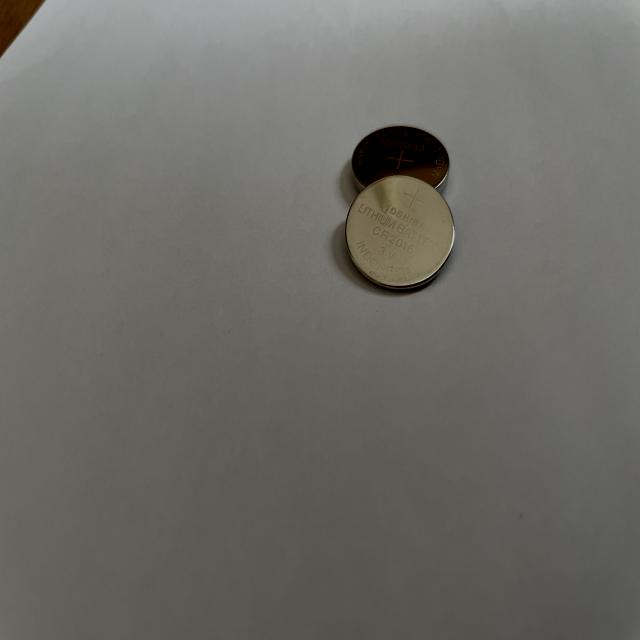COIN: (347, 174, 455, 294), (351, 124, 448, 193)
